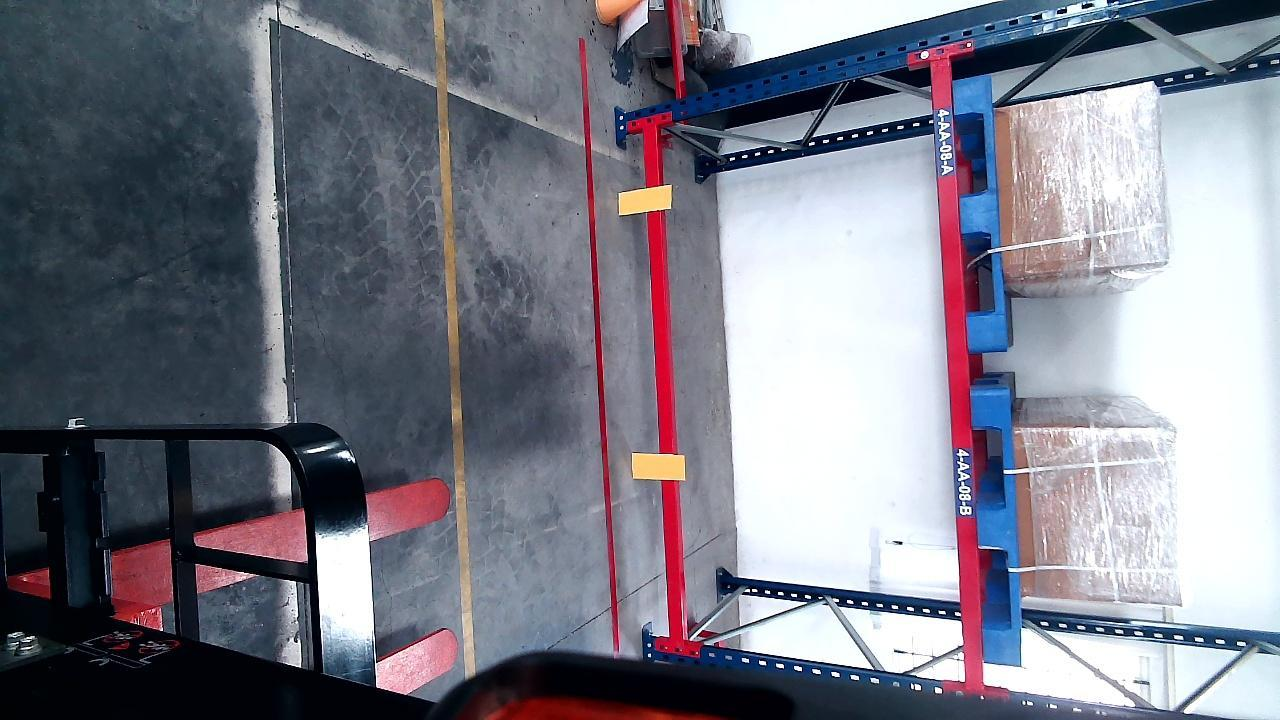red_line: (577, 43, 624, 665)
yellow_line: (435, 0, 477, 695)
